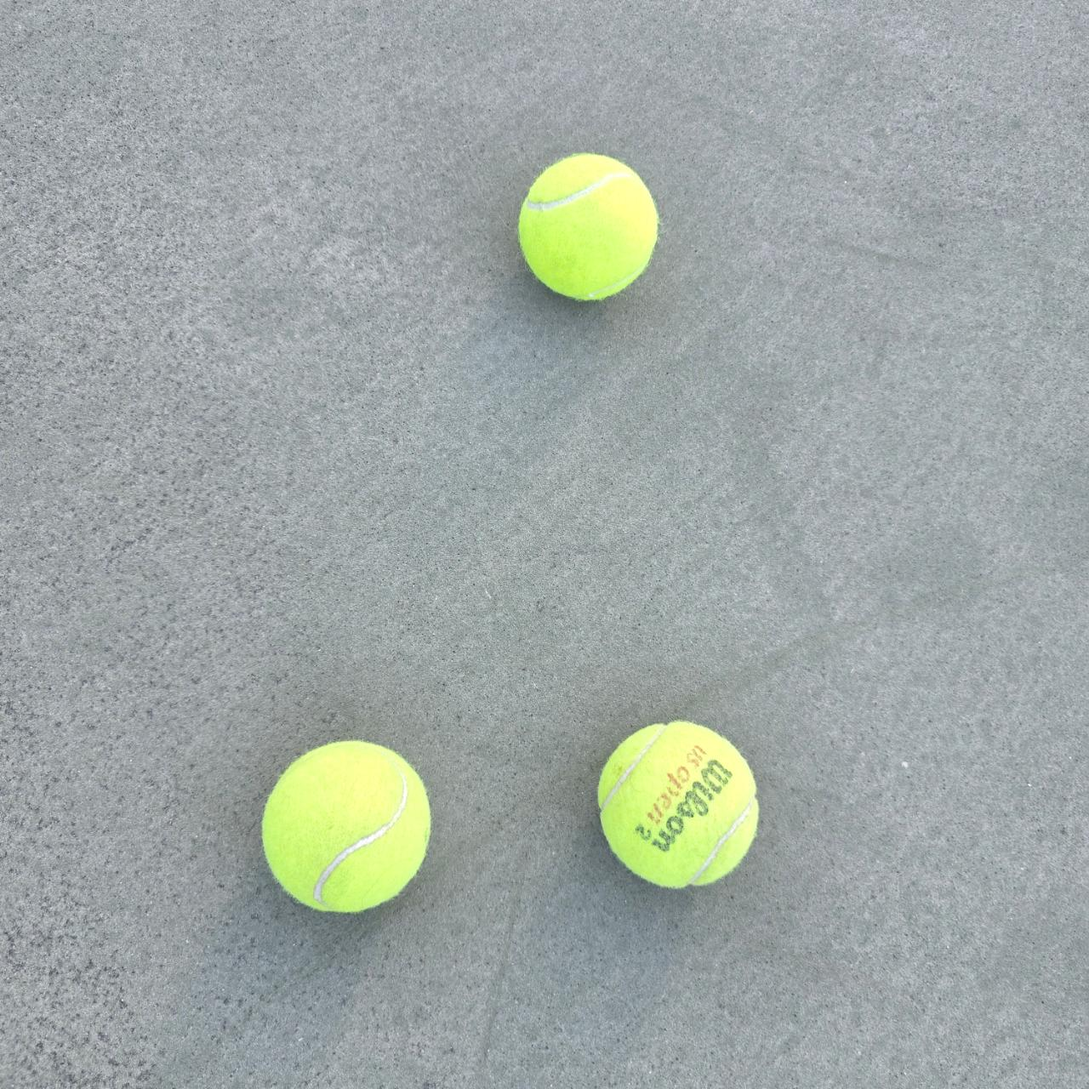tennis-ball: (259, 737, 432, 915), (595, 717, 760, 890), (516, 150, 660, 303)
